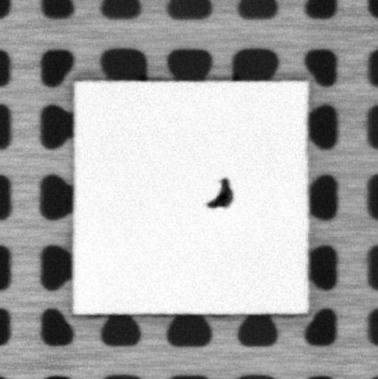DIE_INK: (206, 177, 234, 209)
